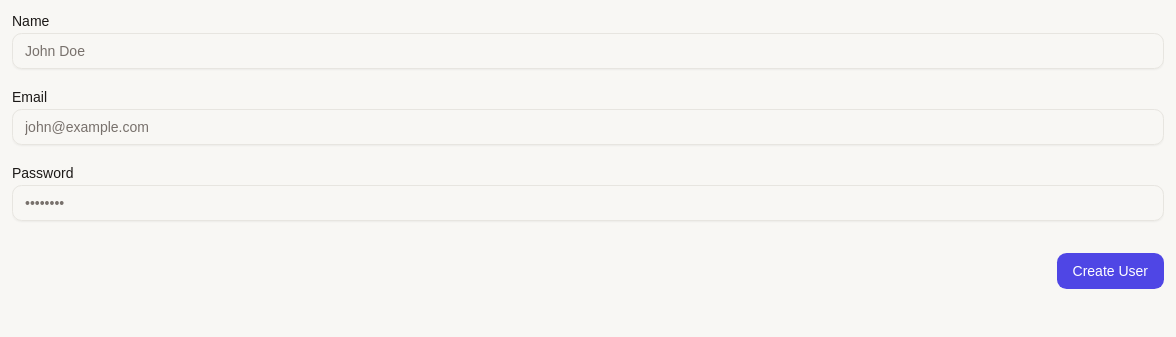
Test case: UserForm Component › handles server error 409 (Email already exists)
Type "Jane Doe" into the field labelled "Name" at [588, 51], box [12,33,1164,69]
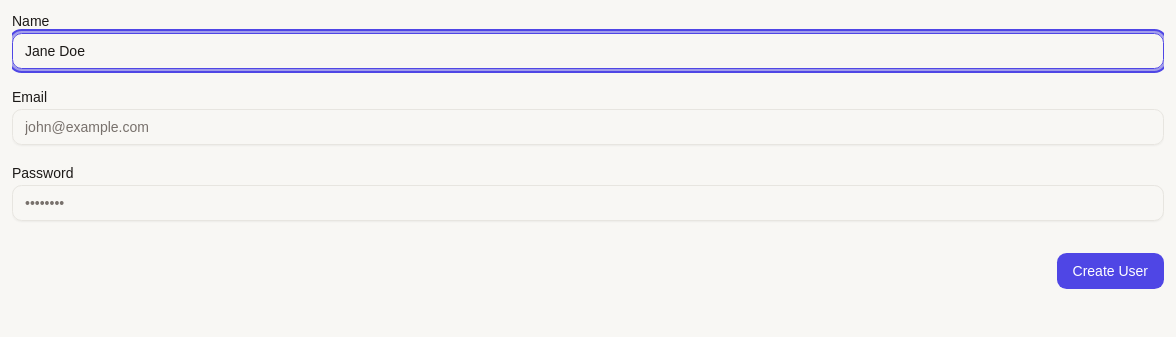
Type "existing@example.com" into the field labelled "Email" at [588, 127], box [12,109,1164,145]
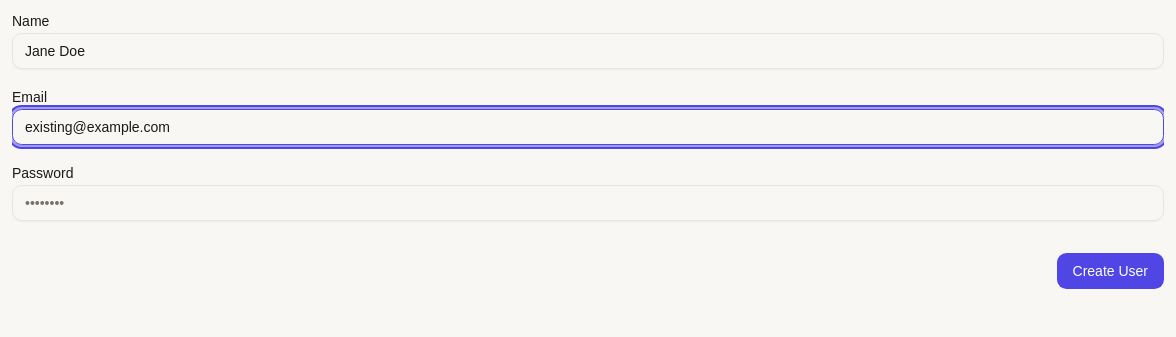
Type "password123" into the password field labelled "Password" at [588, 203], box [12,185,1164,221]
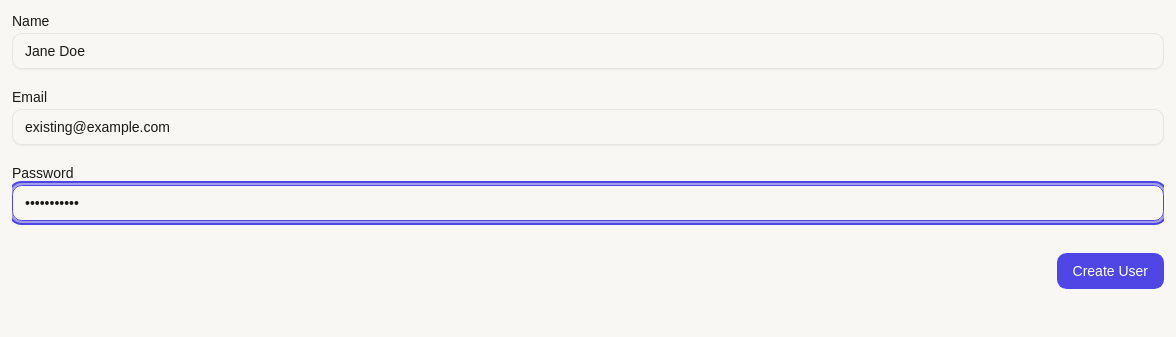
Click the button "Create User" at [1110, 271], box [1056,253,1164,289]
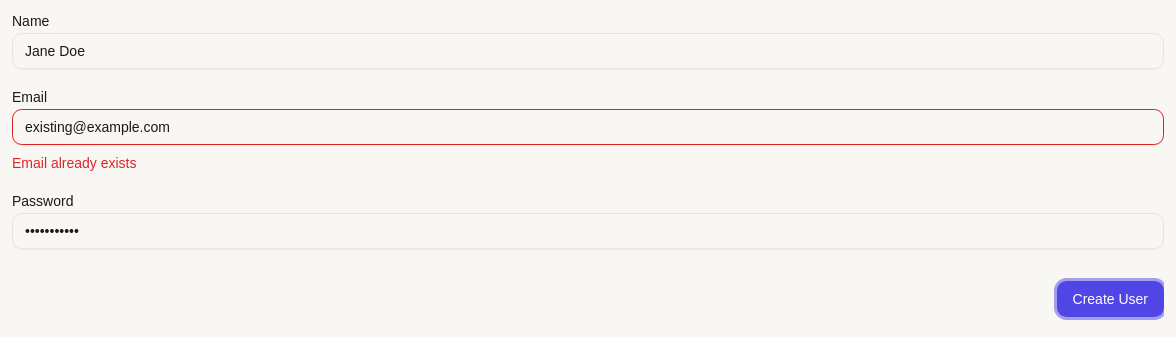
Now the text "Email already exists" is shown, box [12,155,136,171]
